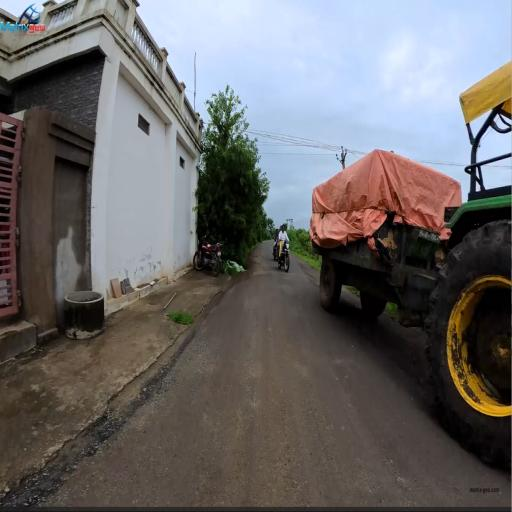edge_damage: (88, 407, 129, 472), (149, 373, 173, 420), (179, 334, 194, 379)
